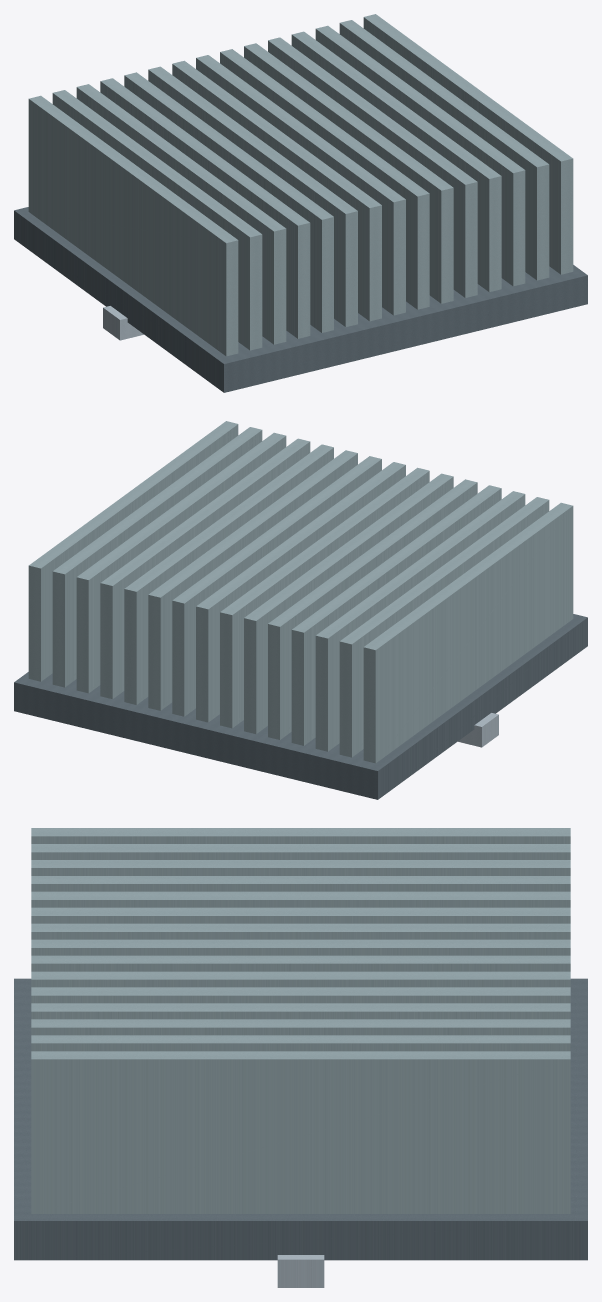
3 views of the same model, one above another, from view 1: azimuth 30°, elevation 25°; view 2: azimuth 150°, elevation 25°; view 3: azimuth 270°, elevation 25° (orthographic). The views are drawn at different scales.
Visible parts, largest first — view 1: 177_L114_HS2__PSMAT__Aluminum_Bare, 177_L114_HS2__PSMAT__Aluminum_Anodized, 177_L114_HS2__PSMAT__Tin_Solder; view 2: 177_L114_HS2__PSMAT__Aluminum_Bare, 177_L114_HS2__PSMAT__Aluminum_Anodized, 177_L114_HS2__PSMAT__Tin_Solder; view 3: 177_L114_HS2__PSMAT__Aluminum_Bare, 177_L114_HS2__PSMAT__Aluminum_Anodized, 177_L114_HS2__PSMAT__Tin_Solder.
Part boxes in pixels (left/top/right/bottom): 177_L114_HS2__PSMAT__Aluminum_Bare: left=28, top=14, right=573, bottom=356; 177_L114_HS2__PSMAT__Aluminum_Anodized: left=14, top=207, right=587, bottom=392; 177_L114_HS2__PSMAT__Tin_Solder: left=103, top=306, right=143, bottom=340; 177_L114_HS2__PSMAT__Aluminum_Bare: left=28, top=421, right=573, bottom=763; 177_L114_HS2__PSMAT__Aluminum_Anodized: left=14, top=614, right=587, bottom=799; 177_L114_HS2__PSMAT__Tin_Solder: left=458, top=713, right=498, bottom=747; 177_L114_HS2__PSMAT__Aluminum_Bare: left=31, top=828, right=570, bottom=1213; 177_L114_HS2__PSMAT__Aluminum_Anodized: left=14, top=978, right=587, bottom=1260; 177_L114_HS2__PSMAT__Tin_Solder: left=277, top=1255, right=324, bottom=1287.
Size of the model in its own units: 0.0385 by 0.0155 by 0.037.
Materials: 3 (3 with a texture image).
